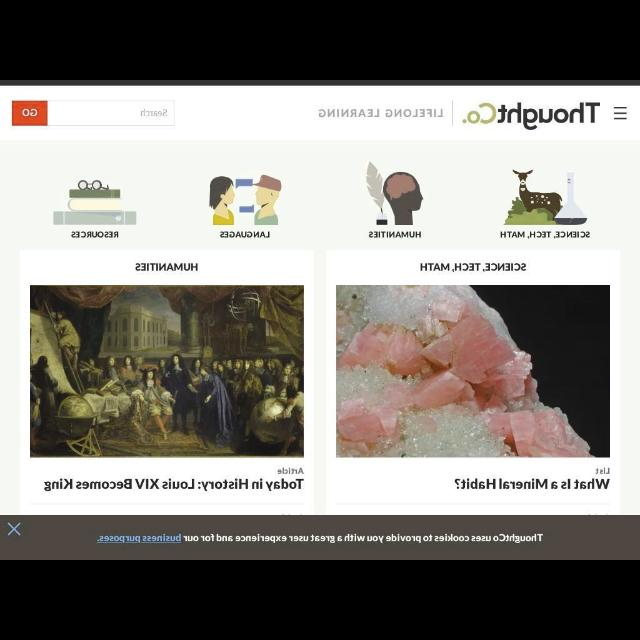icon: (610, 105, 628, 124)
iframe: (1, 515, 637, 557)
image: (336, 287, 608, 457), (32, 287, 304, 457), (462, 101, 600, 133), (502, 172, 582, 225), (53, 180, 137, 226), (210, 176, 282, 226), (365, 162, 421, 225)
input: (10, 99, 174, 127)
text: (45, 478, 302, 492), (454, 479, 608, 489), (318, 108, 444, 118), (418, 262, 524, 272), (500, 232, 590, 238), (368, 230, 419, 240), (220, 231, 270, 239), (136, 264, 198, 270), (70, 231, 120, 237), (139, 108, 167, 118), (277, 468, 303, 474), (594, 468, 610, 474)
textbutton: (12, 103, 46, 125)
toolbar: (3, 86, 639, 142)
